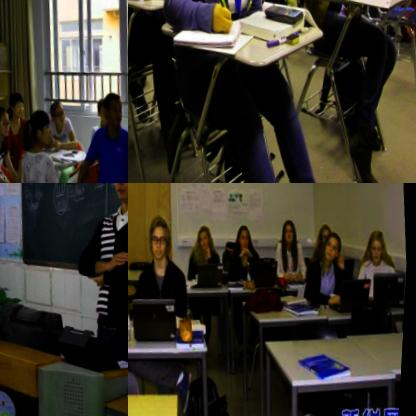head: (146, 210, 176, 260), (28, 102, 57, 143), (100, 83, 127, 125), (366, 220, 390, 258), (48, 92, 70, 125), (324, 226, 345, 259), (96, 90, 116, 122), (8, 89, 28, 119), (196, 217, 215, 248), (235, 217, 255, 246), (281, 211, 299, 239), (0, 103, 13, 137), (320, 216, 336, 241)
